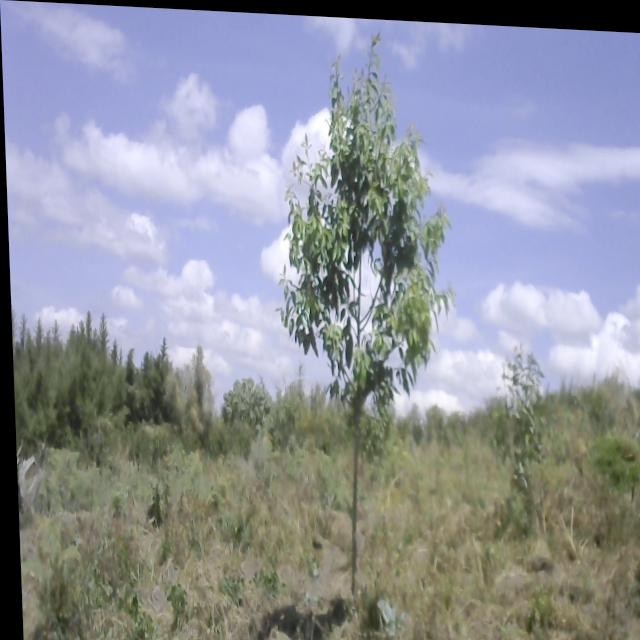Hass Avocado: (256, 13, 465, 586)
